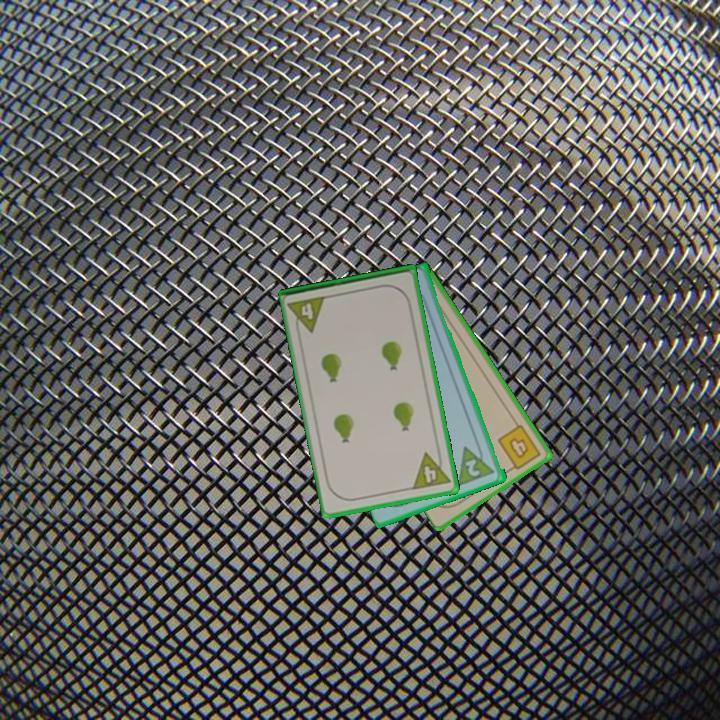2p: (462, 455, 484, 480)
4b: (494, 421, 544, 475)
4p: (409, 447, 453, 493), (285, 292, 329, 337)
